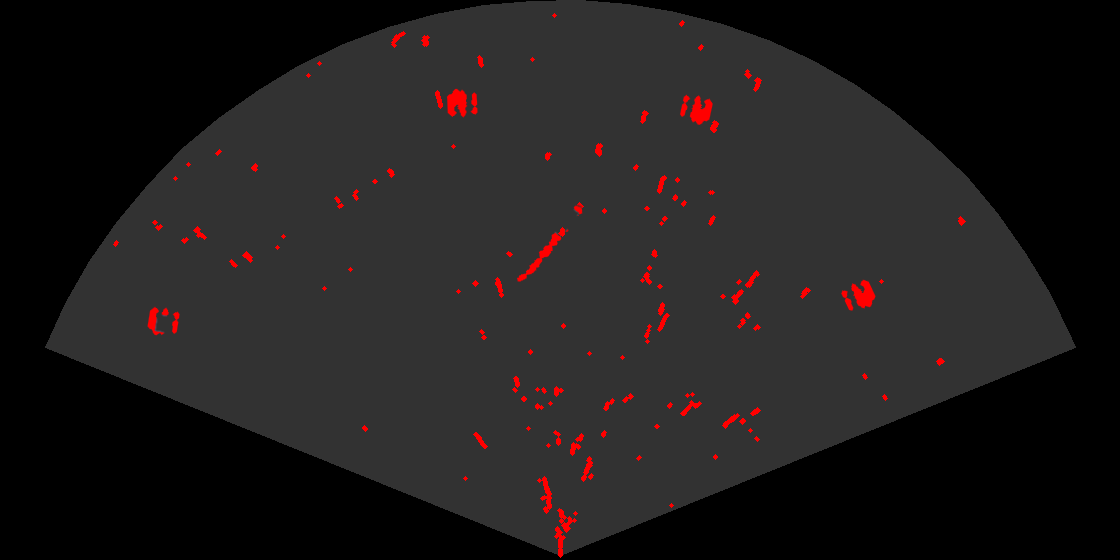ball: (840, 278, 877, 312), (678, 93, 714, 126), (146, 305, 181, 337), (445, 87, 479, 119)
chain: (515, 204, 584, 283)
